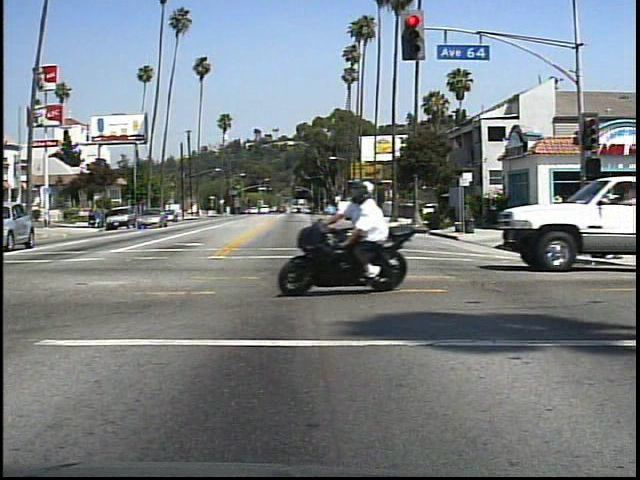person: (334, 174, 410, 284), (547, 192, 574, 206)
